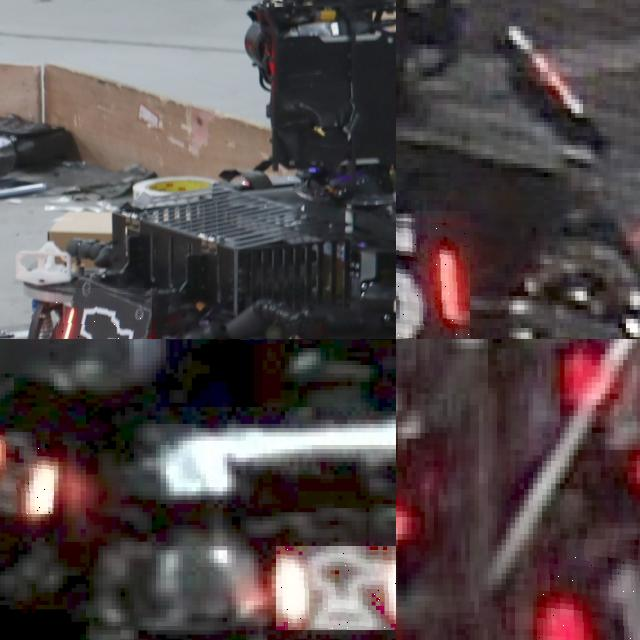R1: (537, 539, 640, 640)
R5: (396, 211, 469, 339)
Rs: (276, 546, 396, 630), (56, 288, 152, 339), (0, 432, 54, 516)
